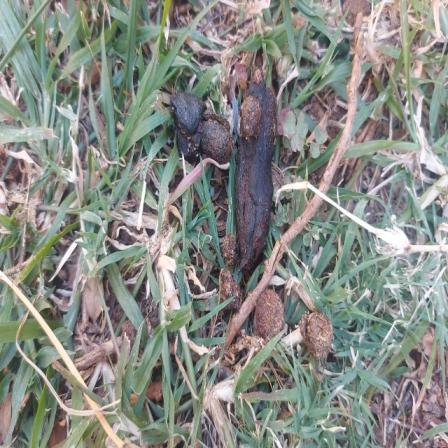dog-poop: (170, 63, 297, 310)
